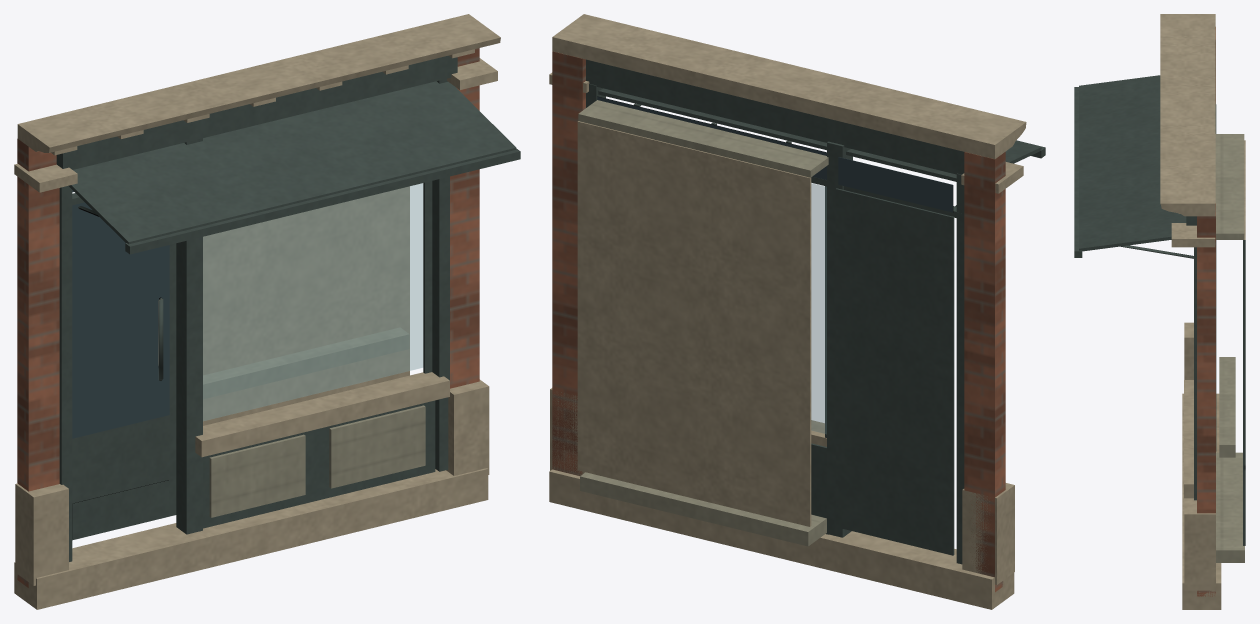
File: heritage-shop-bay.lod1.glb
The picture shows the model from 3 angles, left to right: view 1: azimuth 30°, elevation 25°; view 2: azimuth 150°, elevation 25°; view 3: azimuth 270°, elevation 25°; orthographic projection. The views are drawn at different scales.
Parts seen in each view (by area): view 1: heritage-shop-bay; view 2: heritage-shop-bay; view 3: heritage-shop-bay.
Boxes of the visible parts, <box> form: heritage-shop-bay: <box>14,14,520,609</box>; heritage-shop-bay: <box>549,14,1045,609</box>; heritage-shop-bay: <box>1074,14,1245,609</box>.
Size of the model in its own units: 3.25 by 3.2 by 1.22.
2 materials, 1 textured.
